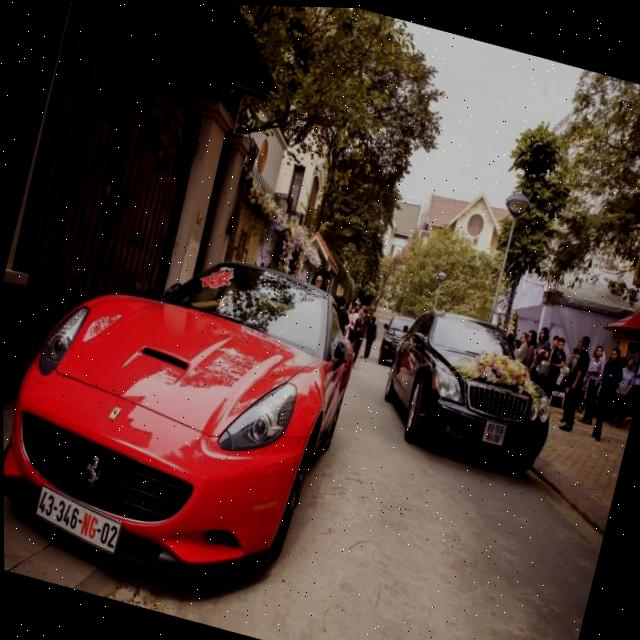car: (2, 205, 378, 622), (368, 296, 574, 485)
plate: (23, 476, 134, 561), (466, 408, 517, 457)
